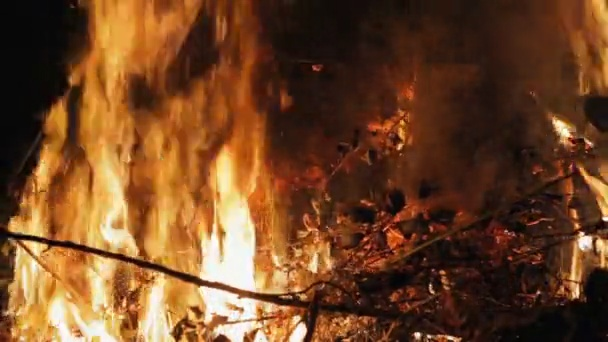fire: (1, 1, 305, 342), (570, 162, 608, 297), (551, 115, 572, 146)
